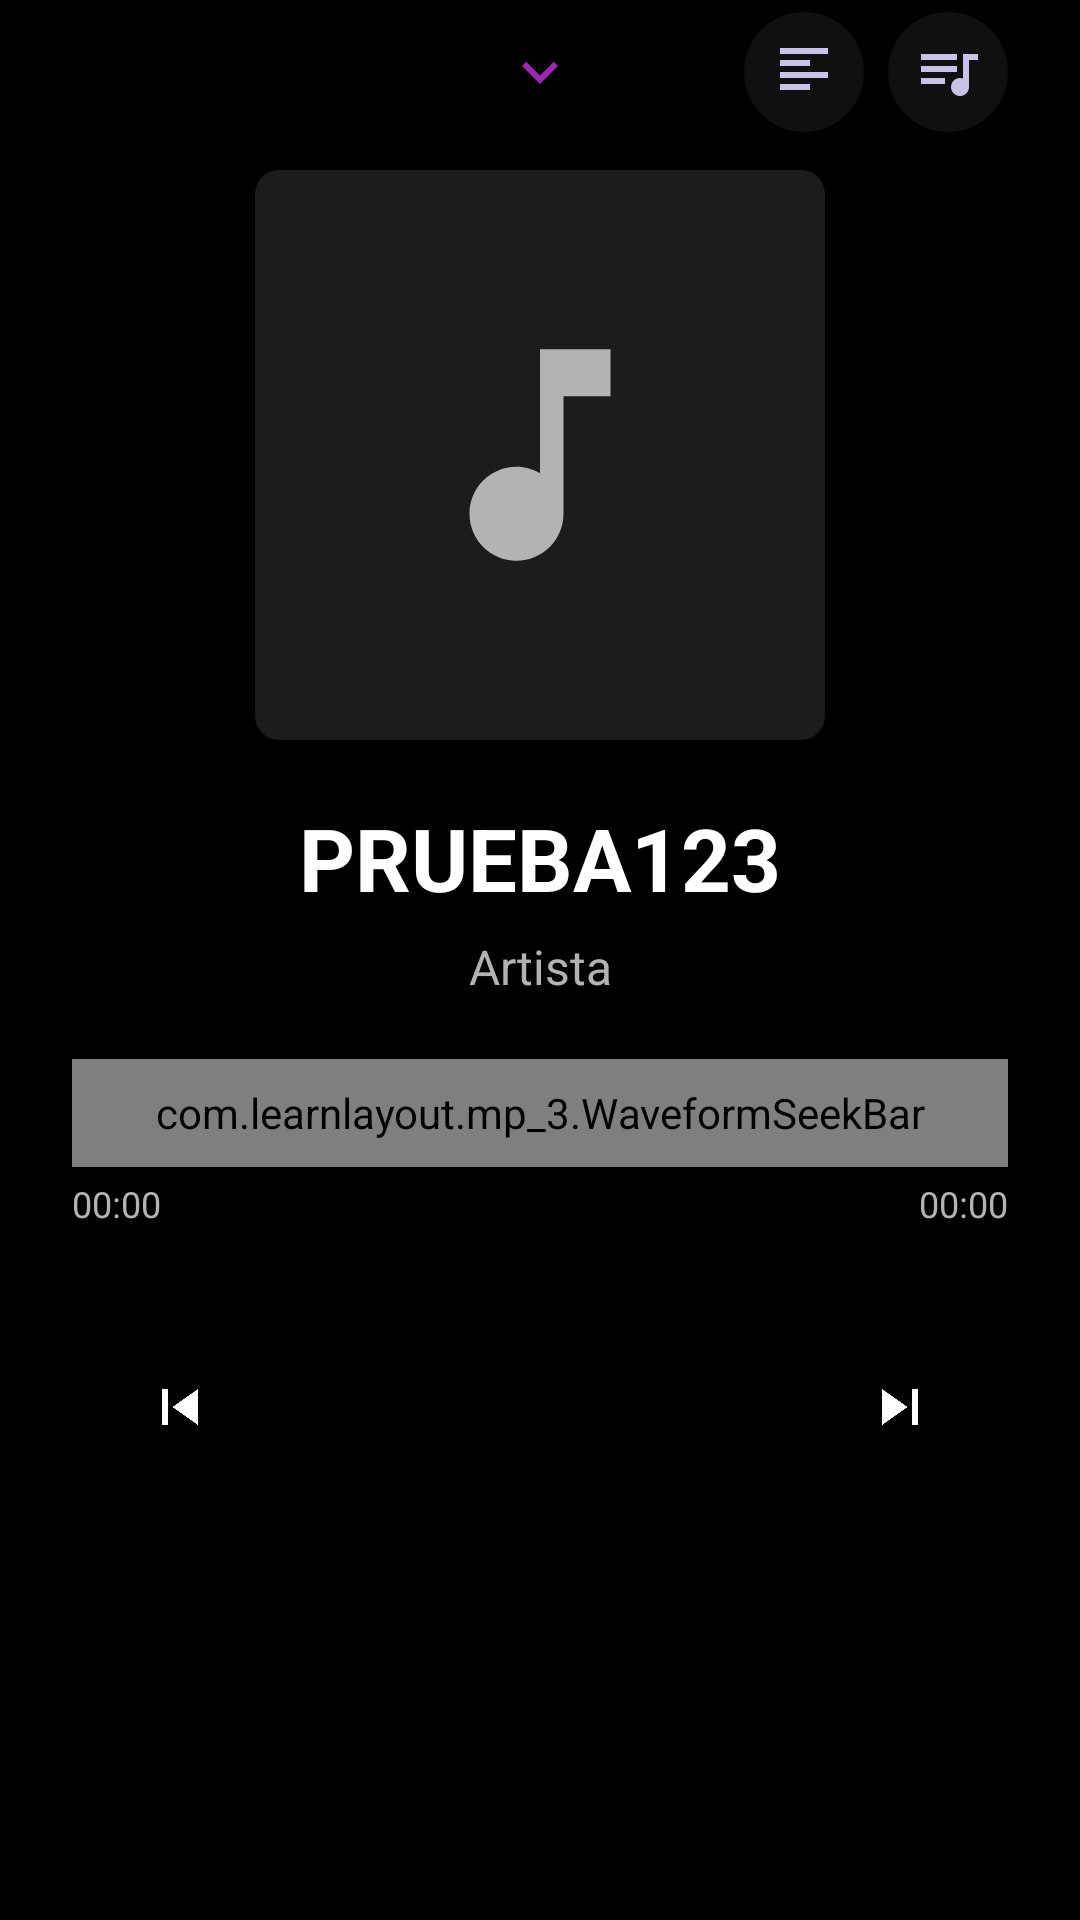

Locate icon controls on the screen. Image size 1080x1920, boxes as [x1,y1,x2,y2].
Anterior: [162,1389,198,1425]
Cerrar reproductor: [522,62,558,84]
Siguiente: [882,1389,918,1425]
Ver cola: [888,12,1008,132]
Ver letra: [744,12,864,132]
